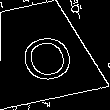O_N: (9, 22, 74, 82)
